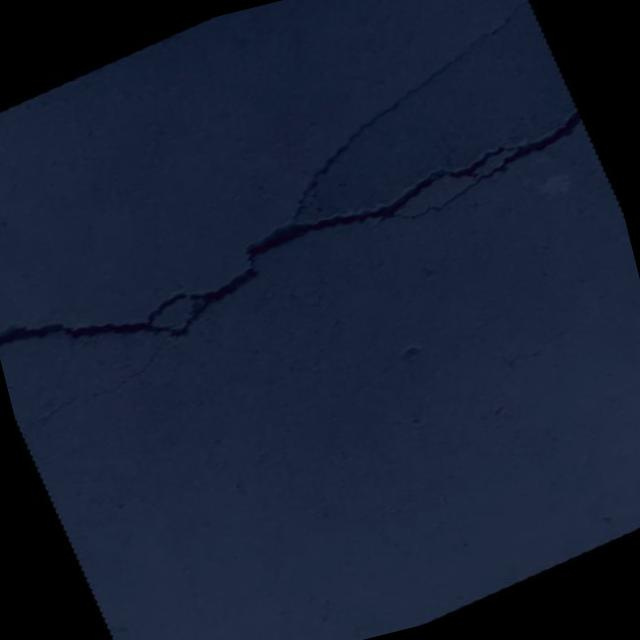crack: (0, 0, 637, 449), (467, 285, 640, 394), (218, 308, 338, 432)
